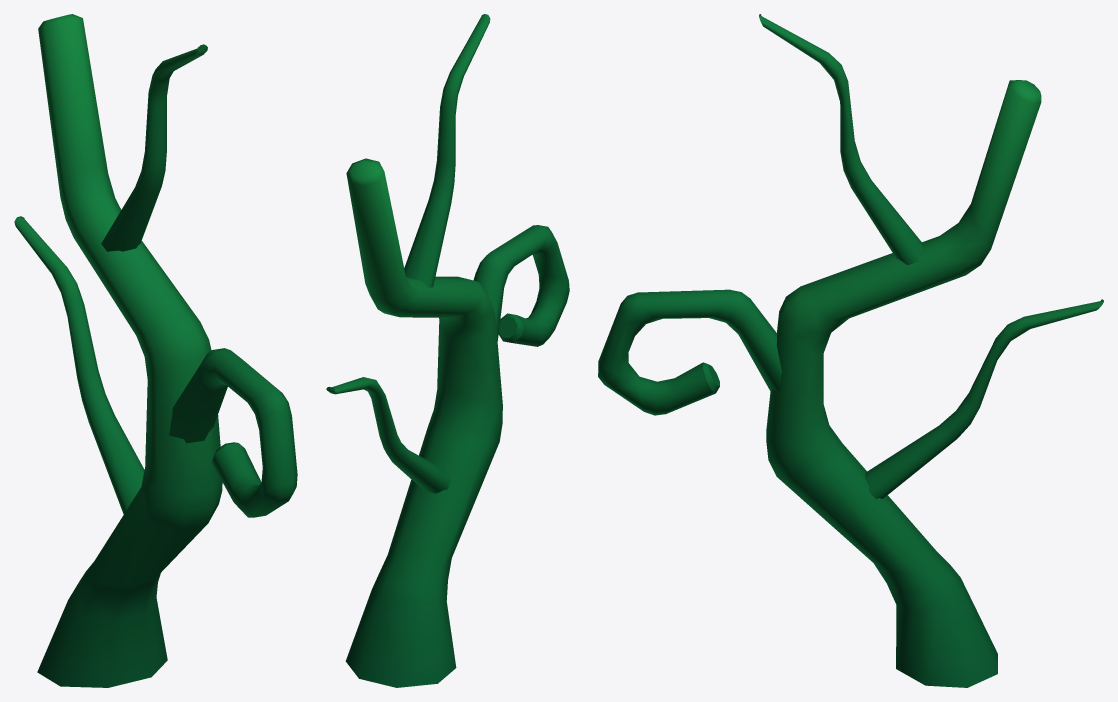
Rendered from Vine_4_2.glb.
3 renders of one model, left to right at view 1: azimuth 30°, elevation 25°; view 2: azimuth 150°, elevation 25°; view 3: azimuth 270°, elevation 25°, orthographic. The views are drawn at different scales.
Parts seen in each view (by area): view 1: Vine_4_2; view 2: Vine_4_2; view 3: Vine_4_2.
Boxes of the visible parts, x1,y1,x2,y2 form: Vine_4_2: (14, 14, 297, 687); Vine_4_2: (326, 14, 569, 687); Vine_4_2: (598, 14, 1103, 687).
Size of the model in its own units: 0.1582 by 0.9674 by 0.6831.
Materials: 1 (1 with a texture image).
